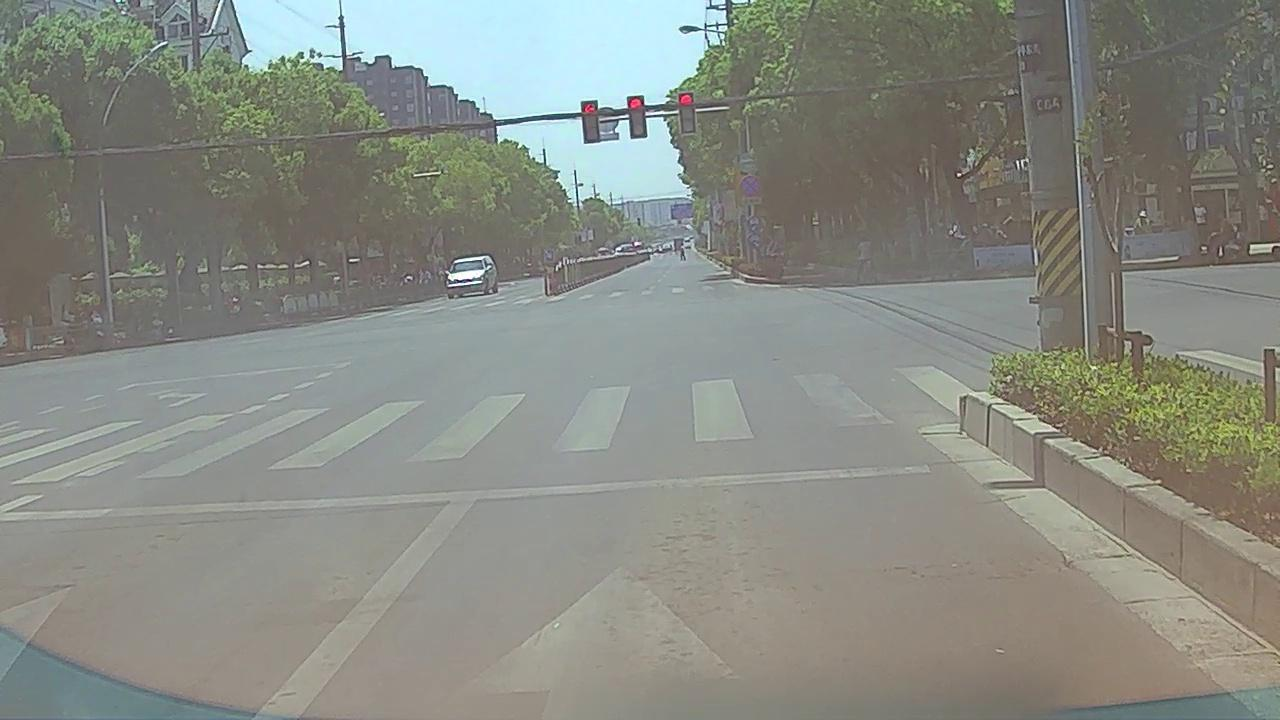traffic_light: (628, 97, 646, 137), (582, 101, 598, 143), (680, 94, 696, 134)
